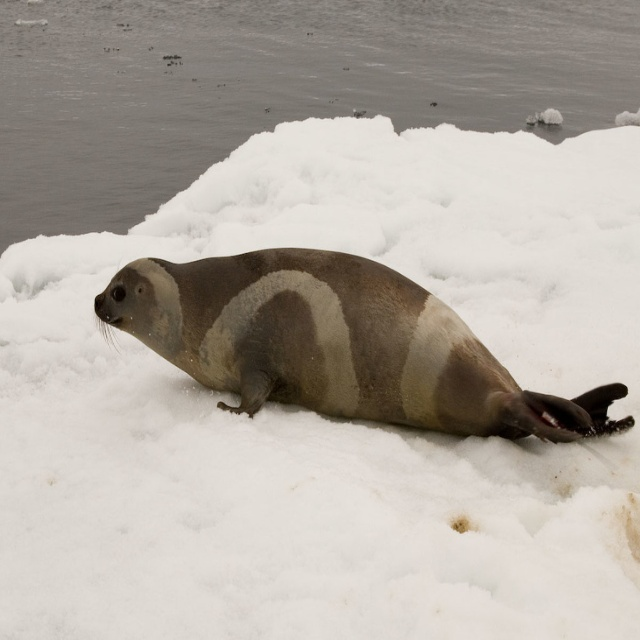Sea lion: (95, 248, 637, 447)
